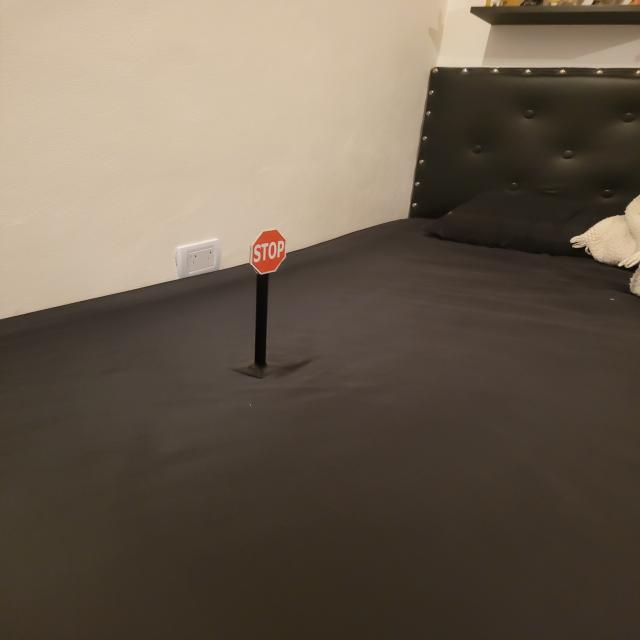stop: (249, 228, 287, 275)
